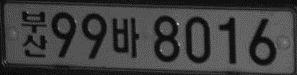0: (184, 15, 211, 64)
1: (218, 16, 243, 64)
6: (248, 18, 277, 65)
8: (153, 14, 180, 62)
9: (51, 10, 76, 59), (81, 12, 107, 59)
바: (112, 17, 139, 58)
부산_V: (20, 10, 48, 58)
